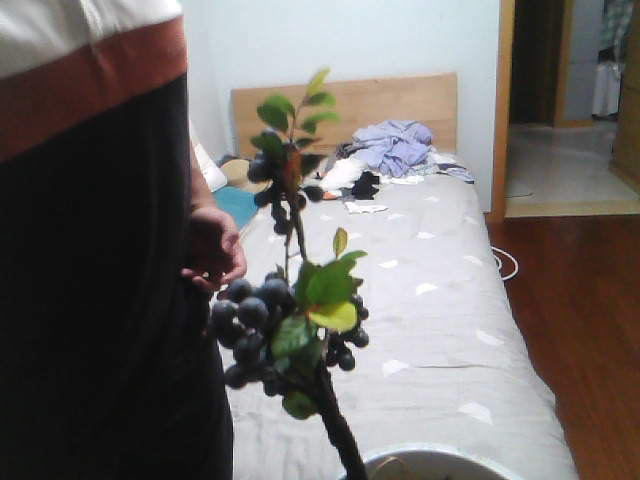blueberry: (220, 156, 252, 184)
